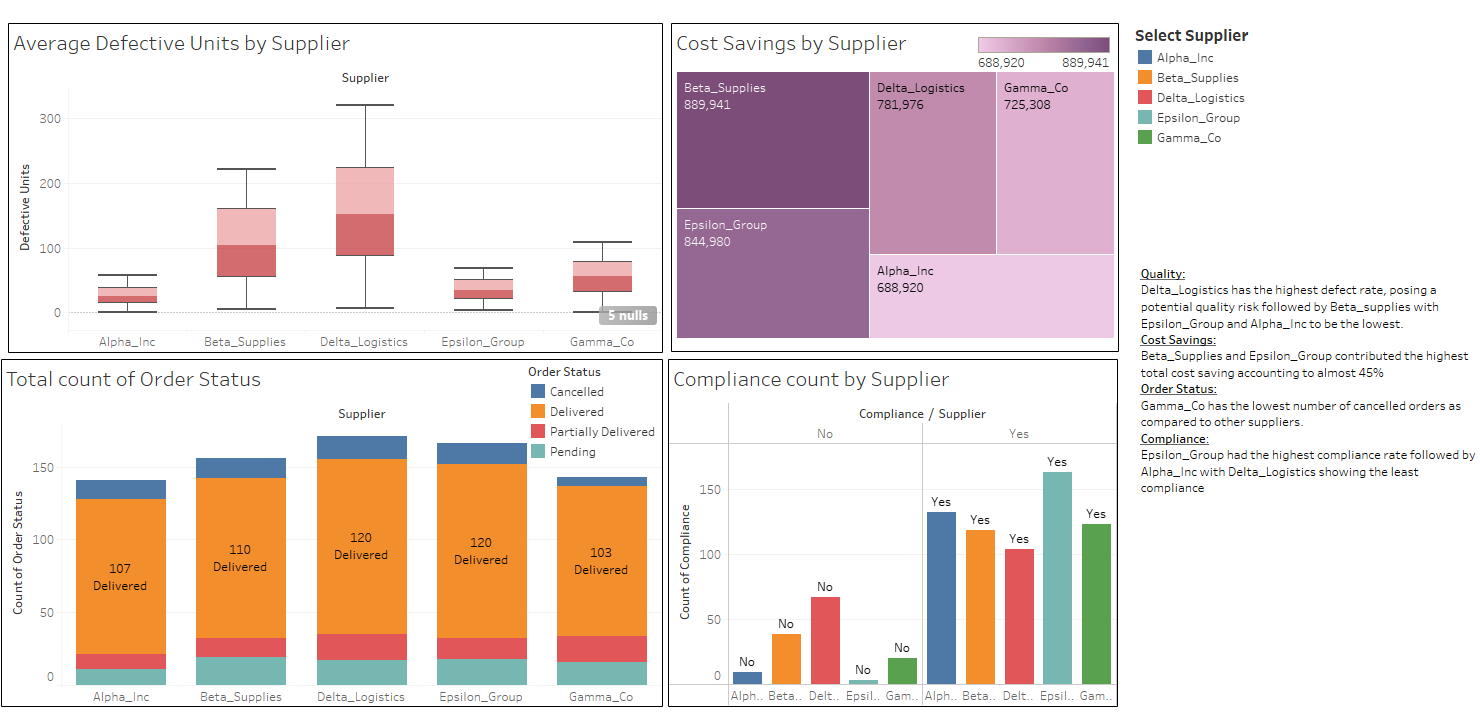

The dashboard page shown, as its layout file describes it:
{"tool":"tableau","page":{"name":"Dashboard 1","canvas":[1000,1000],"units":"permille","ordinal":0},"visuals":[{"type":"text","box":[0,0,762.7,1000]},{"type":"text","box":[762.7,0,237.3,1000]},{"type":"legend","title":"Cost Savings","param":"[federated.0ri4c151al53er15hzl5v0mgednu].[sum:Calculation_1225260596268498946:qk","box":[656,68.9,93.3,78.3]},{"type":"worksheet","title":"Defective units","mark":"Circle","rows":["Defective_Units"],"cols":["Supplier"],"box":[12,78.3,436.7,385.5]},{"type":"worksheet","title":"Cost Savings","mark":"Automatic","box":[454,78.3,298.7,384.4]},{"type":"legend","title":"Compliance","param":"[federated.0ri4c151al53er15hzl5v0mgednu].[none:Supplier:nk]","box":[763.3,79.4,126,170.6]},{"type":"worksheet","title":"Order Status","mark":"Automatic","rows":["Order_Status"],"cols":["Supplier"],"box":[7.3,470.8,441.3,406.5]},{"type":"worksheet","title":"Compliance","mark":"Automatic","rows":["Compliance"],"cols":["Compliance","Supplier"],"box":[452,470.8,300,406.5]},{"type":"legend","title":"Order Status","param":"[federated.0ri4c151al53er15hzl5v0mgednu].[none:Order_Status:nk]","box":[358.7,475.5,105.3,114.5]}]}

Visuals, with their boxes on the dashboard's canvas, which has no fixed pixel size, in thousandths of its width and height (x1, y1, x2, y2). These are canvas units, not pixel positions in the 1480x724 screenshot, which may show the page scaled, cropped or inside an application window:
text: <box>0,0,763,1000</box>
text: <box>763,0,1000,1000</box>
"Cost Savings" legend: <box>656,69,749,147</box>
"Defective units" worksheet (Circle marks): <box>12,78,449,464</box>
"Cost Savings" worksheet: <box>454,78,753,463</box>
"Compliance" legend: <box>763,79,889,250</box>
"Order Status" worksheet: <box>7,471,449,877</box>
"Compliance" worksheet: <box>452,471,752,877</box>
"Order Status" legend: <box>359,476,464,590</box>
